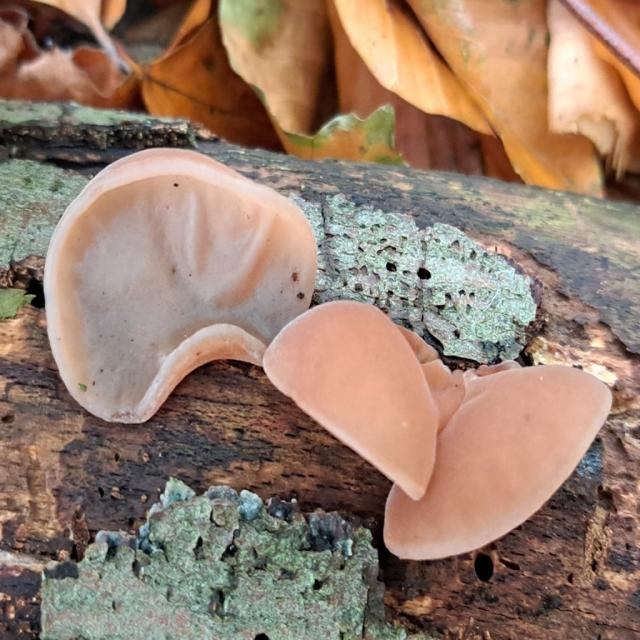Fase Muda: (37, 144, 317, 434), (372, 352, 620, 572), (267, 296, 461, 510)
